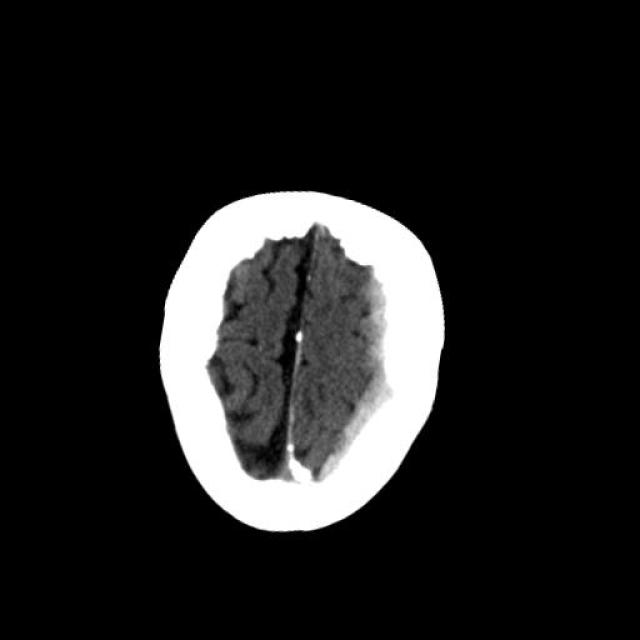Subdural: (307, 263, 439, 517)
